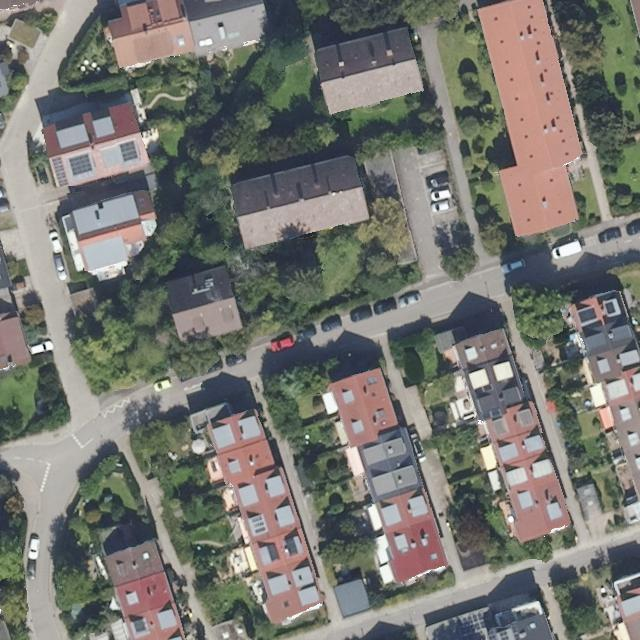PV: (455, 609, 512, 639), (68, 153, 94, 177), (51, 156, 69, 188), (119, 140, 139, 163), (577, 306, 597, 325), (605, 301, 616, 315)
